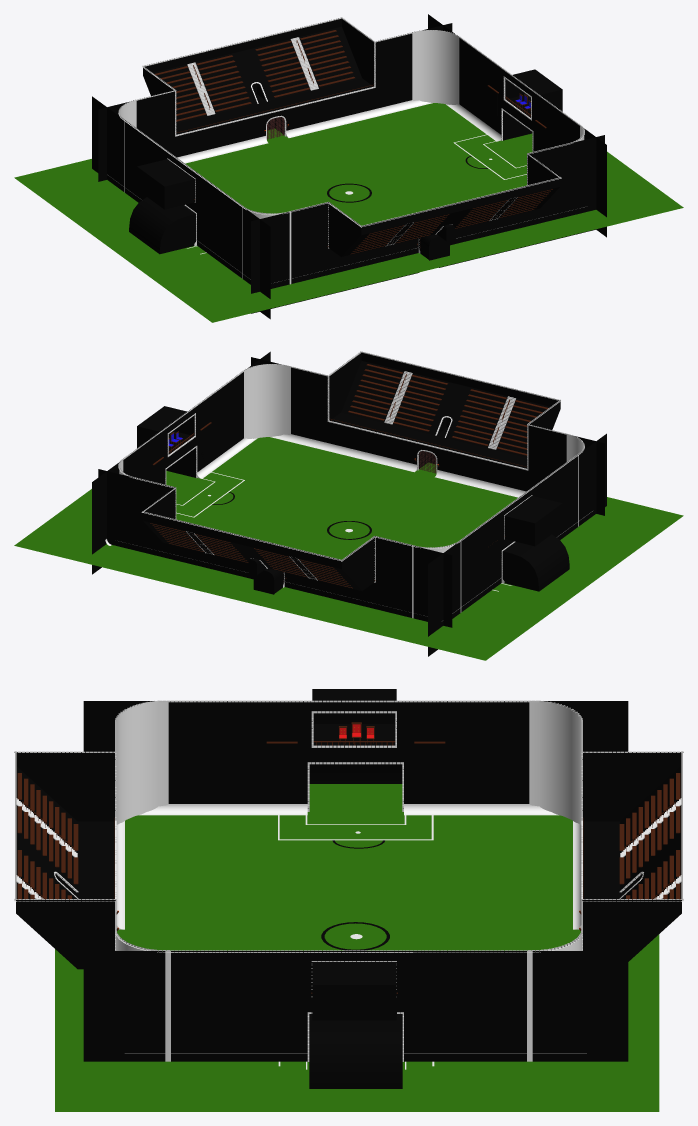
File: MapFull47.FBX
3 views of the same model, one above another, from view 1: azimuth 30°, elevation 25°; view 2: azimuth 150°, elevation 25°; view 3: azimuth 270°, elevation 25° (orthographic). The views are drawn at different scales.
Visible parts, largest first — view 1: Ground, Stands, Goal, Stands001; view 2: Ground, Stands001, Goal, Stands; view 3: Goal, Ground, Stands001, Stands, FlagRed01, FlagRed02.
Part boxes in pixels (x1,y1,x2,y2): Ground: (14, 103, 683, 322); Stands: (98, 17, 461, 192); Goal: (92, 14, 606, 319); Stands001: (241, 123, 604, 313); Ground: (14, 437, 683, 660); Stands001: (242, 351, 604, 526); Goal: (92, 351, 606, 656); Stands: (98, 457, 461, 627); Goal: (83, 689, 628, 1088); Ground: (55, 784, 659, 1111); Stands001: (14, 700, 170, 1061); Stands: (527, 700, 683, 1061); FlagRed01: (414, 741, 445, 795); FlagRed02: (266, 741, 297, 795).
Bounding box in the file's own units: 533 × 101 × 430.
